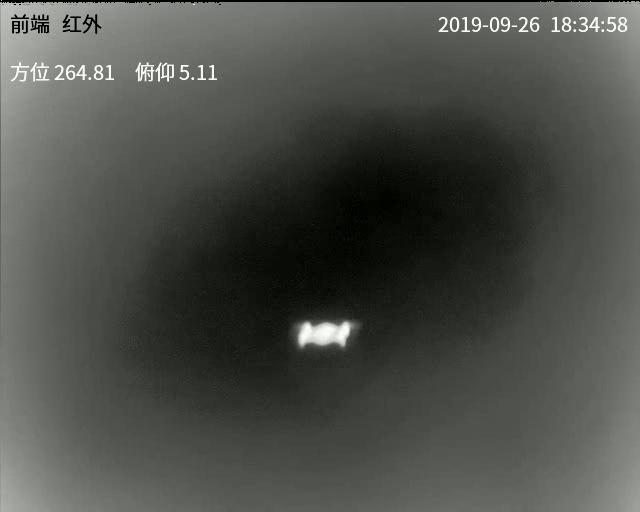DRONE: (296, 321, 354, 349)
